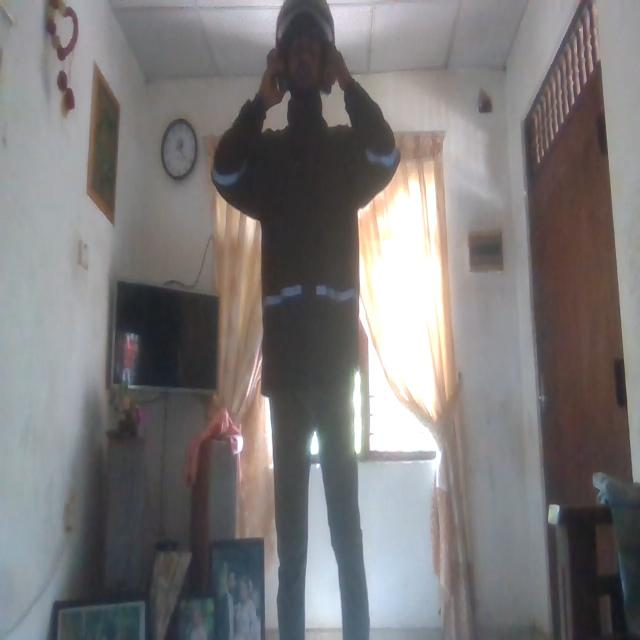Helmet_Wearer: (266, 0, 346, 116)
Jacket_Wearer: (213, 98, 396, 405)
Person: (209, 4, 401, 640)
